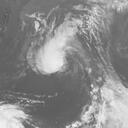cyclone: (35, 45, 63, 75)
